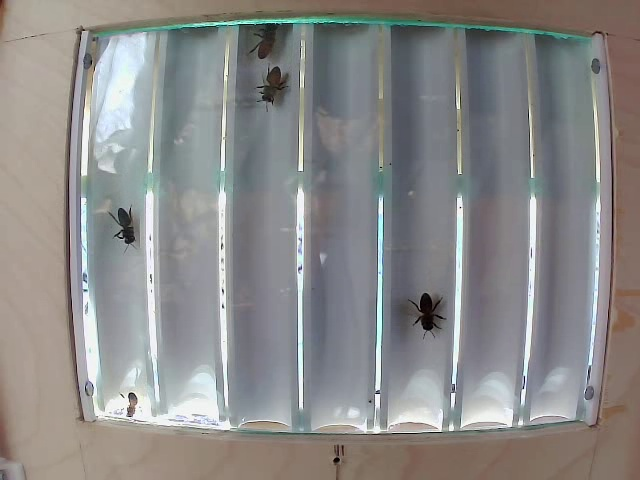bee: (400, 280, 458, 336), (257, 16, 290, 67), (259, 56, 294, 104), (115, 203, 148, 252)
